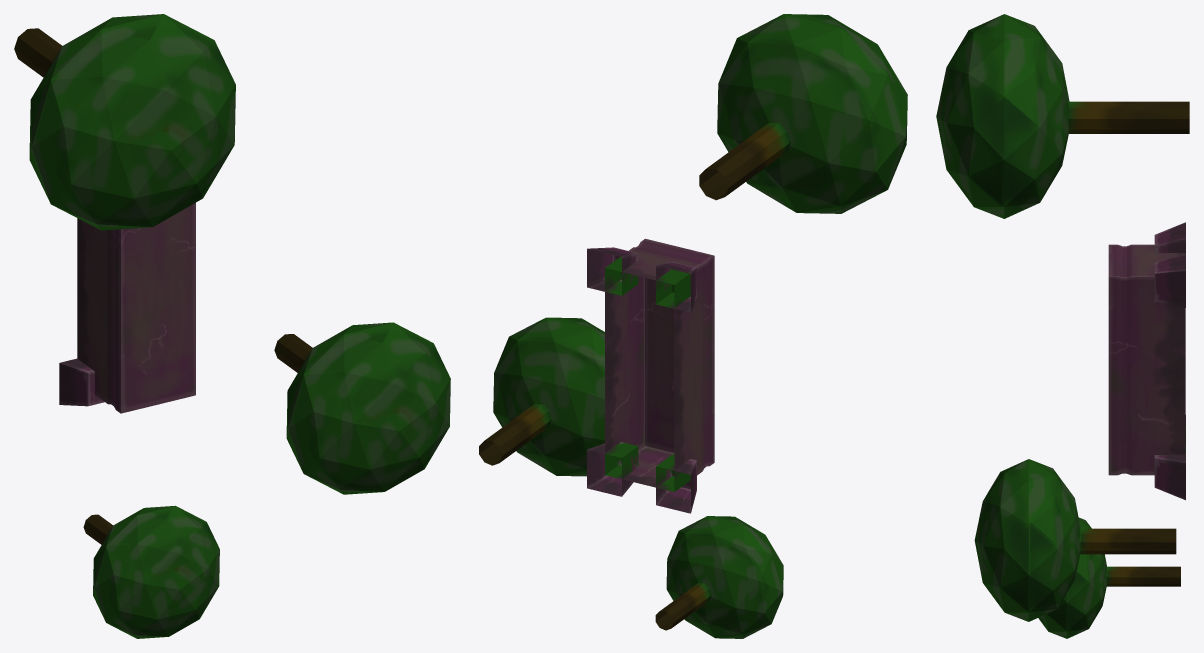
The model's file is PurpleCoffin.obj.
The picture shows the model from 3 angles, left to right: view 1: azimuth 30°, elevation 25°; view 2: azimuth 150°, elevation 25°; view 3: azimuth 270°, elevation 25°; orthographic projection. The views are drawn at different scales.
Visible parts, largest first — view 1: Cube; view 2: Cube; view 3: Cube.
Part boxes in pixels (x1,y1,x2,y2): Cube: (14,14,450,638); Cube: (479,14,907,638); Cube: (936,14,1189,638).
Size of the model in its own units: 8.47 by 12.26 by 4.87.
